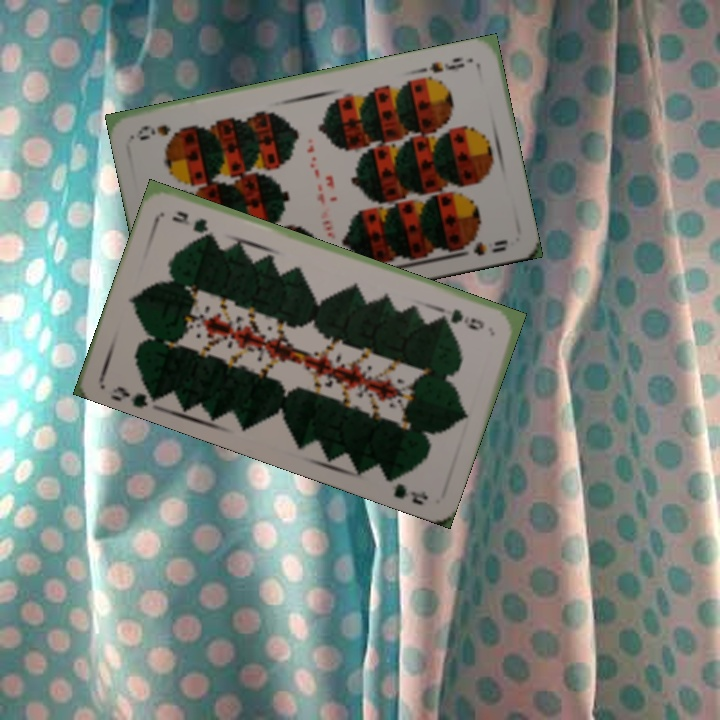G9: (107, 381, 161, 410), (447, 305, 487, 333)
S9: (425, 53, 467, 76)
